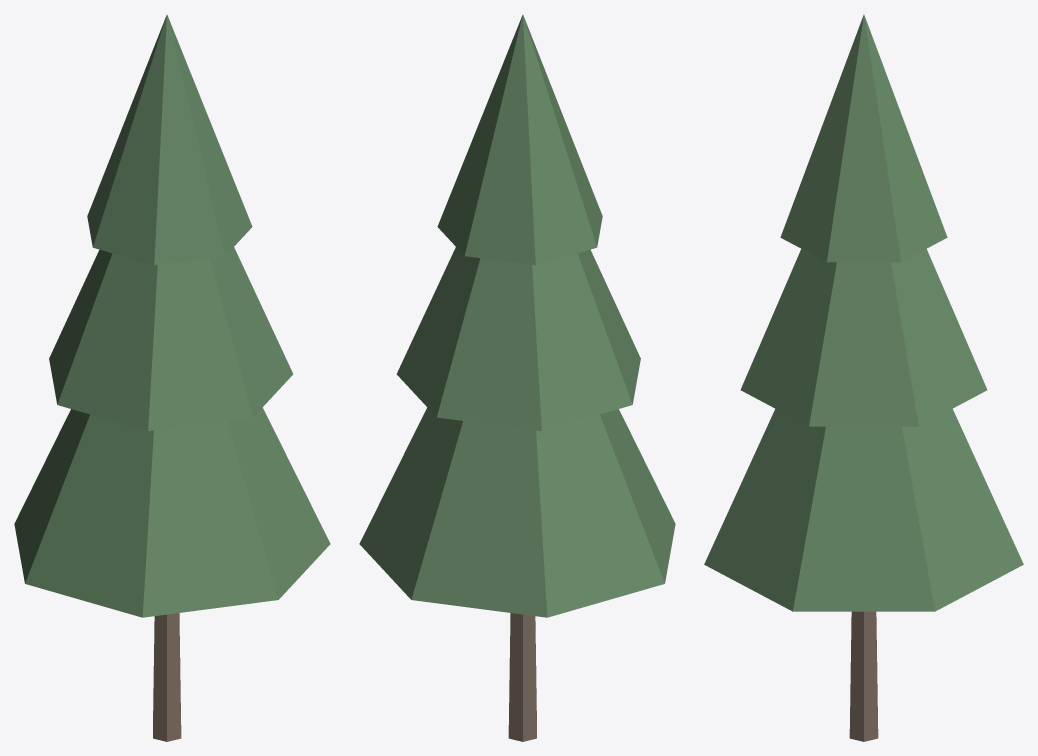
Rendered from HK_Tree_Cedar.glb.
3 views of the same model, side by side, from view 1: azimuth 30°, elevation 25°; view 2: azimuth 150°, elevation 25°; view 3: azimuth 270°, elevation 25° (orthographic).
Parts seen in each view (by area): view 1: HK_Tree_Cedar; view 2: HK_Tree_Cedar; view 3: HK_Tree_Cedar.
Boxes of the visible parts, box(x1,y1,x2,y2) form: HK_Tree_Cedar: box(14, 14, 330, 741); HK_Tree_Cedar: box(359, 14, 675, 741); HK_Tree_Cedar: box(704, 14, 1023, 741).
Size of the model in its own units: 4.18 by 10.67 by 4.29.
